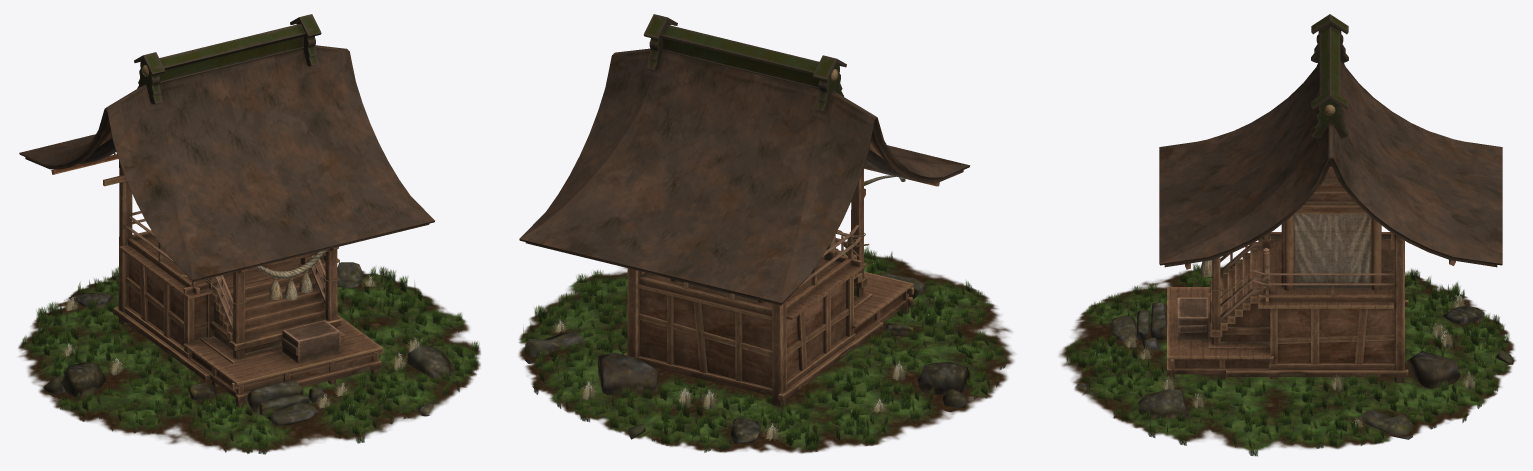
The model's file is japan_temple.glb.
3 renders of one model, left to right at view 1: azimuth 30°, elevation 25°; view 2: azimuth 150°, elevation 25°; view 3: azimuth 270°, elevation 25°, orthographic. The views are drawn at different scales.
Parts seen in each view (by area): view 1: polySurface1168; view 2: polySurface1168; view 3: polySurface1168.
Part boxes in pixels (x1,y1,x2,y2): polySurface1168: (18,14,480,454); polySurface1168: (519,14,1014,453); polySurface1168: (1059,14,1515,456).
Size of the model in its own units: 921 by 674 by 921.
Materials: 1 (1 with a texture image).
